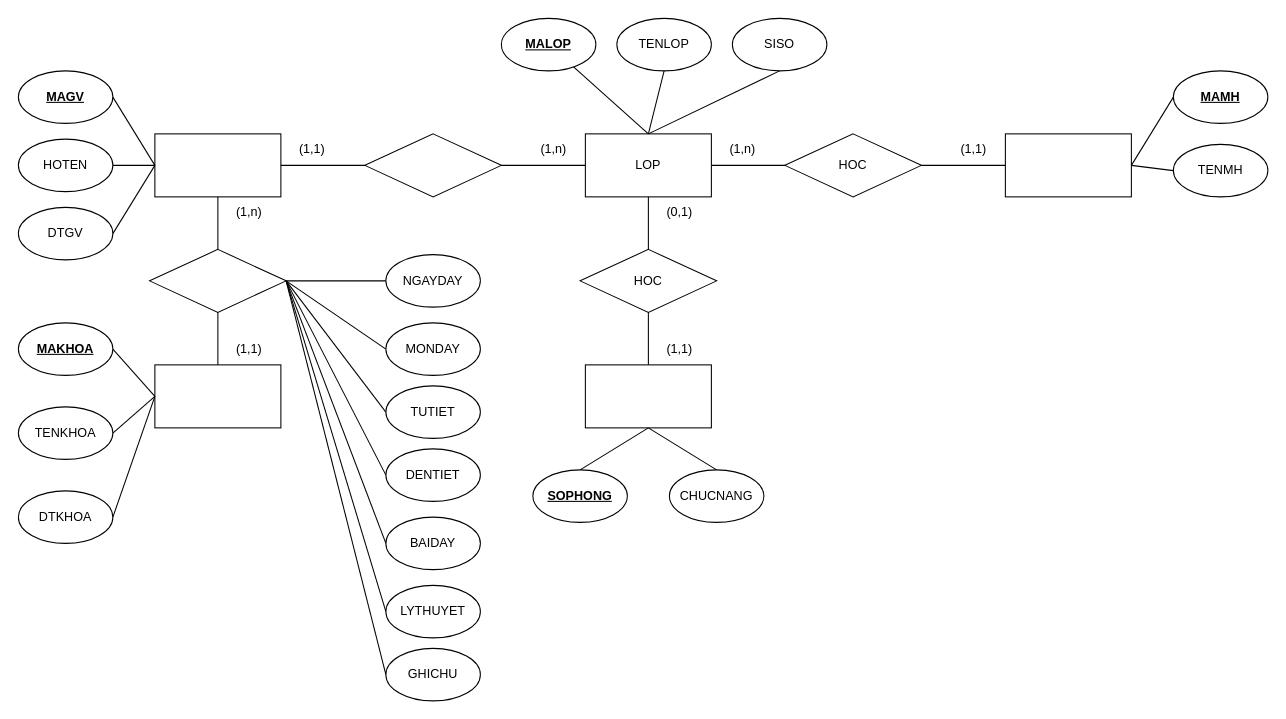
Some shapes in this 1286 by 719 pixel diagram are drawn without their labels. Here are the shapes that lost their labels. From the top down, the centre of each, then its label:
At [217,165]: "GIAOVIEN".
At [432,165]: "DAY".
At [1067,165]: "MONHOC".
At [217,280]: "QUANLY".
At [217,396]: "KHOA".
At [647,396]: "PHONGHOC".
